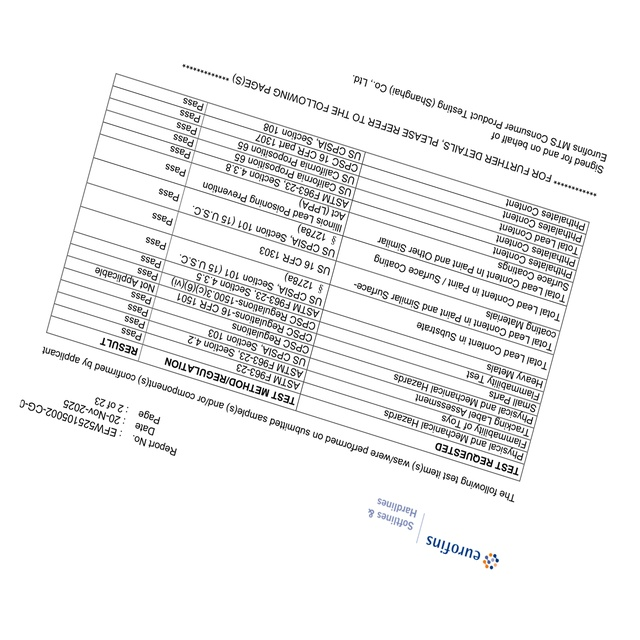eurofins: (422, 533, 500, 575)
